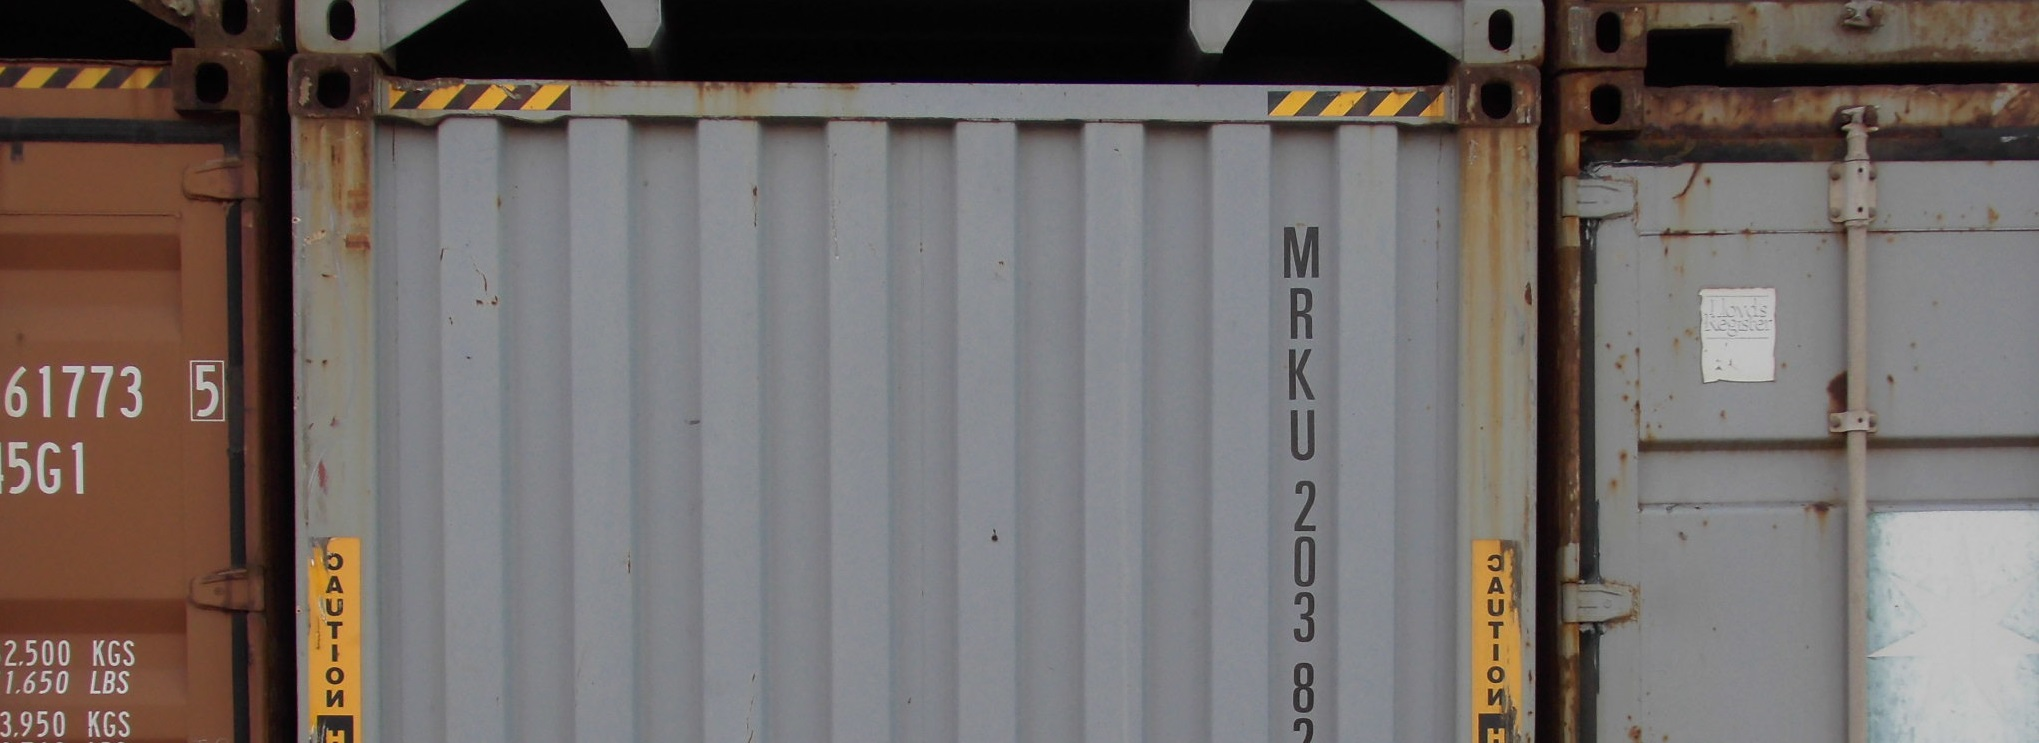container_no_door: (295, 60, 1559, 743)
